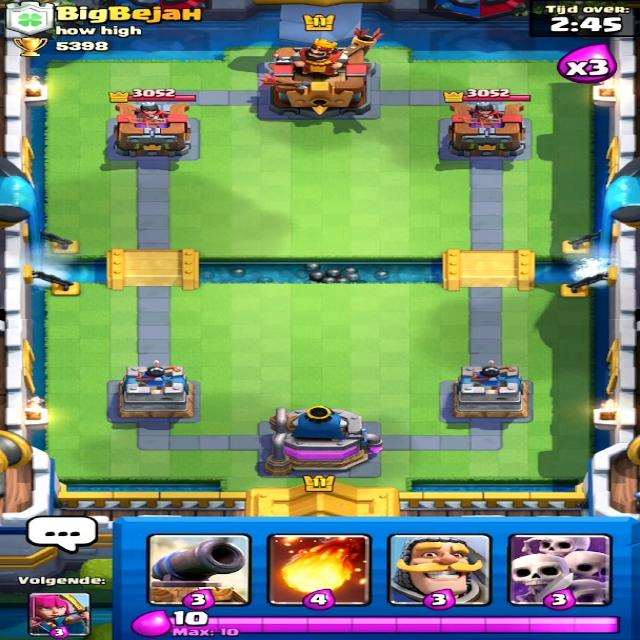Cannon_Card: (149, 531, 241, 604)
Fireball_Card: (276, 534, 366, 605)
